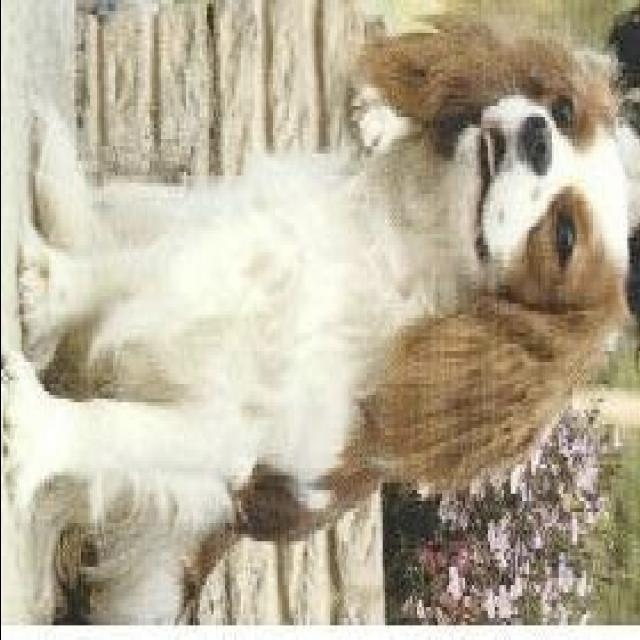blenheim_spaniel: (2, 7, 636, 629)
